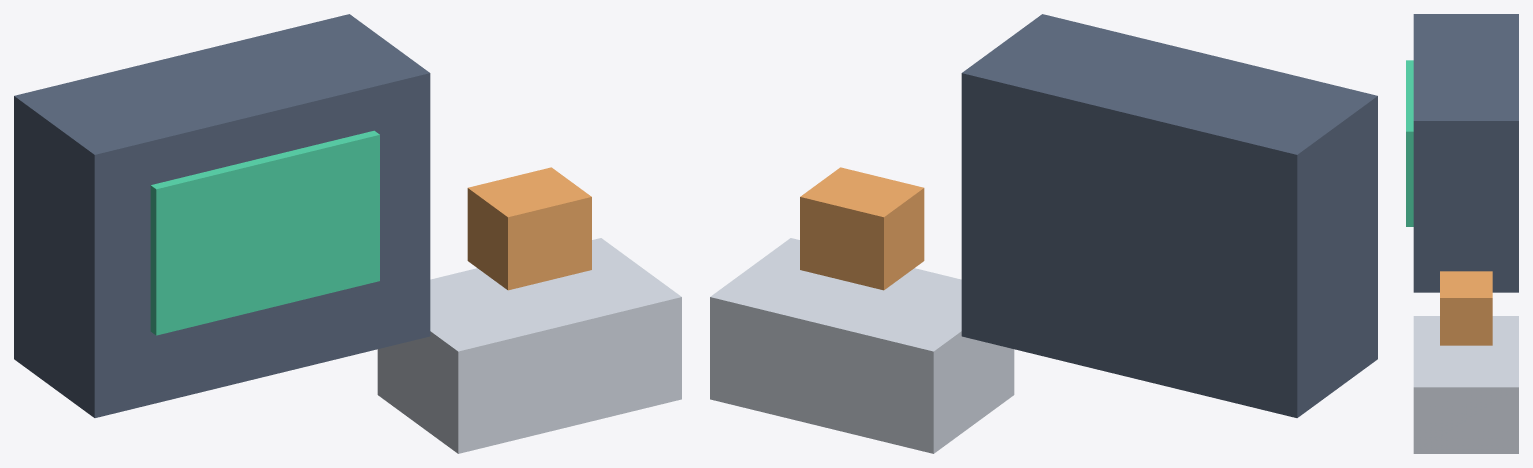
Rendered from ndt_materials_testing.glb.
3 renders of one model, left to right at view 1: azimuth 30°, elevation 25°; view 2: azimuth 150°, elevation 25°; view 3: azimuth 270°, elevation 25°, orthographic. The views are drawn at different scales.
Visible parts, largest first — view 1: UltrasonicFlawDetectorUnit, SteelCalibrationStepWedge, UTDigitalScopeScreen, AngleBeamUTProbe; view 2: UltrasonicFlawDetectorUnit, SteelCalibrationStepWedge, AngleBeamUTProbe; view 3: UltrasonicFlawDetectorUnit, SteelCalibrationStepWedge, AngleBeamUTProbe, UTDigitalScopeScreen.
Part boxes in pixels (x1,y1,x2,y2): UltrasonicFlawDetectorUnit: [14, 14, 430, 417]; SteelCalibrationStepWedge: [377, 238, 681, 453]; UTDigitalScopeScreen: [150, 130, 379, 335]; AngleBeamUTProbe: [467, 167, 591, 290]; UltrasonicFlawDetectorUnit: [961, 14, 1377, 417]; SteelCalibrationStepWedge: [710, 238, 1014, 453]; AngleBeamUTProbe: [800, 167, 924, 290]; UltrasonicFlawDetectorUnit: [1413, 14, 1518, 292]; SteelCalibrationStepWedge: [1413, 316, 1518, 453]; AngleBeamUTProbe: [1440, 271, 1492, 345]; UTDigitalScopeScreen: [1406, 60, 1413, 226].
Bounding box in the file's own units: 2.1 × 1.32 × 0.535.
